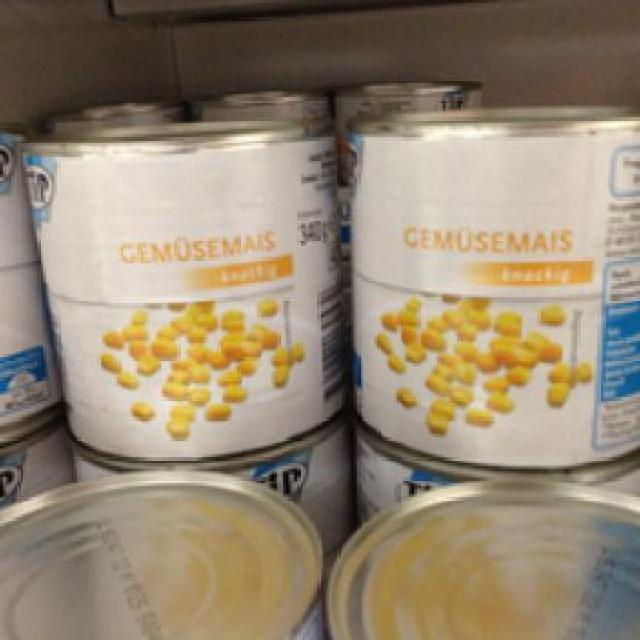Corn: (20, 113, 343, 470), (340, 97, 634, 472)
